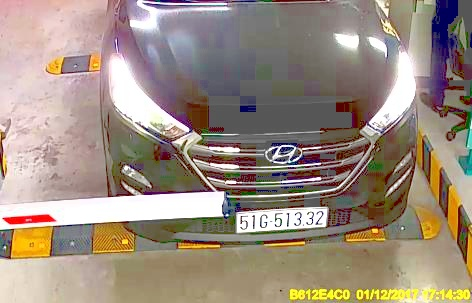plate: (232, 203, 333, 237)
